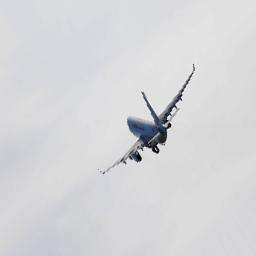Airplane: (97, 62, 196, 175)
